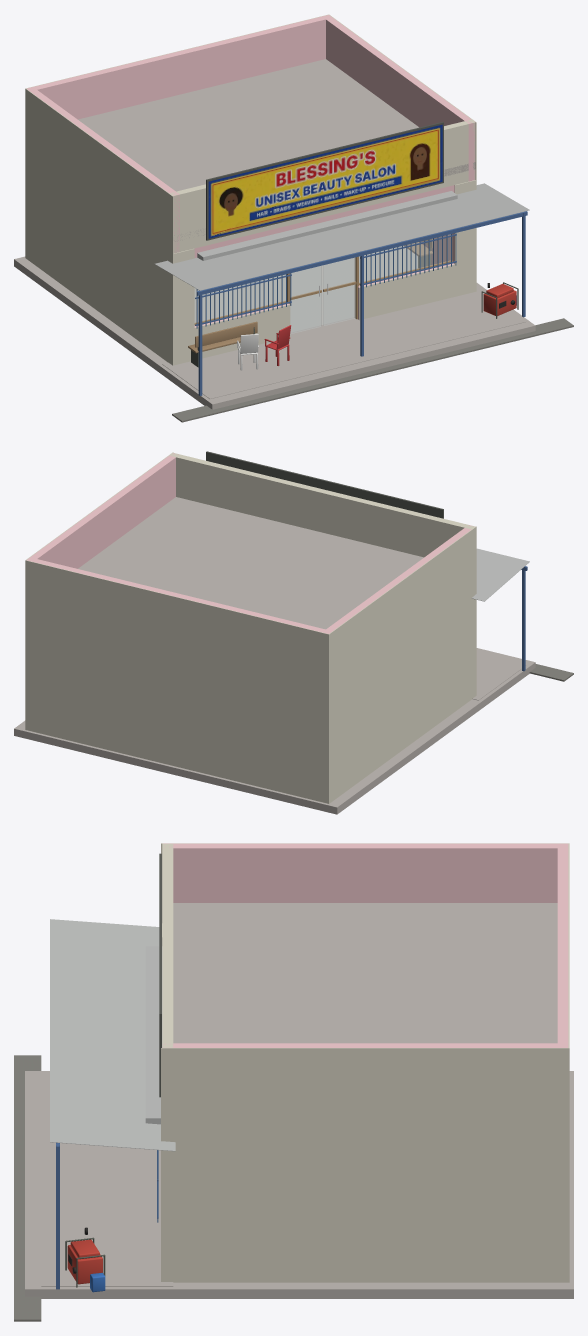
The model's file is set_blessing_salon.glb.
The picture shows the model from 3 angles, top to bottom: view 1: azimuth 30°, elevation 25°; view 2: azimuth 150°, elevation 25°; view 3: azimuth 270°, elevation 25°; orthographic projection. The views are drawn at different scales.
Parts seen in each view (by area): view 1: GR_set_blessing_salon, GD_set_blessing_salon; view 2: GR_set_blessing_salon; view 3: GR_set_blessing_salon, GD_set_blessing_salon.
Part boxes in pixels (left/top/right/bottom): GR_set_blessing_salon: left=14, top=14, right=573, bottom=422; GD_set_blessing_salon: left=188, top=233, right=518, bottom=370; GR_set_blessing_salon: left=14, top=451, right=573, bottom=814; GR_set_blessing_salon: left=14, top=843, right=573, bottom=1321; GD_set_blessing_salon: left=65, top=1150, right=158, bottom=1292.
Size of the model in its own units: 11.4 by 5.15 by 10.2.
Materials: 9 (3 with a texture image).
